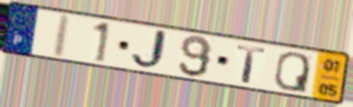1: (91, 21, 112, 64)
9: (177, 34, 213, 80)
I: (50, 12, 74, 60)
J: (129, 28, 173, 71)
Q: (272, 51, 312, 95)
T: (235, 43, 268, 85)
